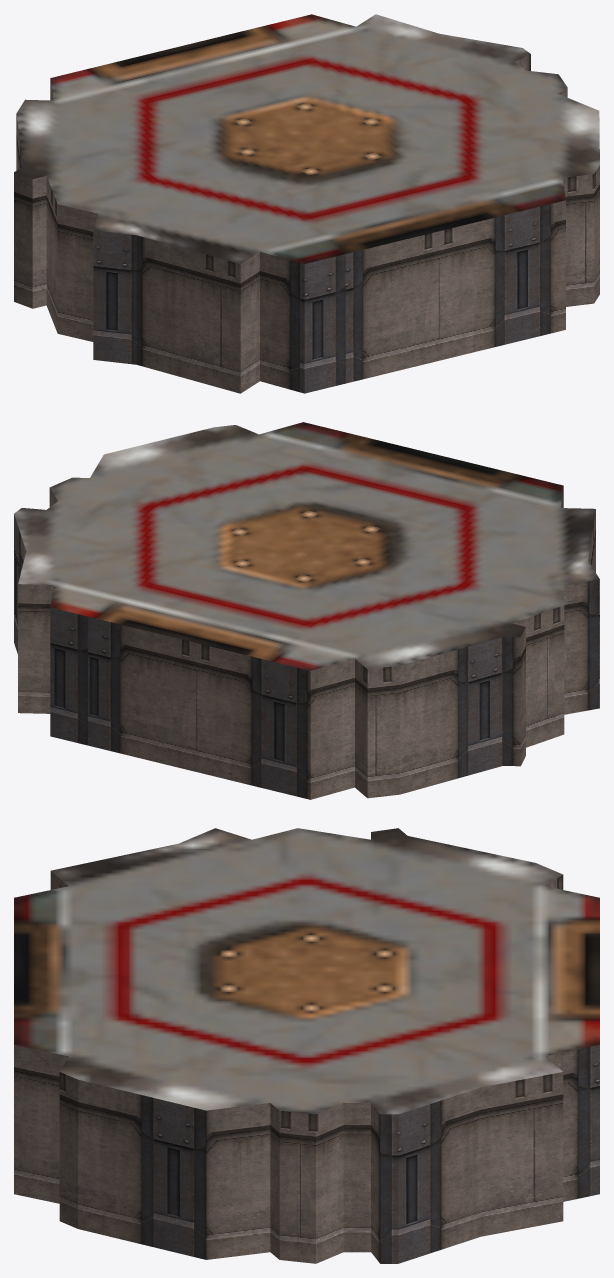
File: bsealed_light_a_54.glb
3 renders of one model, top to bottom at view 1: azimuth 30°, elevation 25°; view 2: azimuth 150°, elevation 25°; view 3: azimuth 270°, elevation 25°, orthographic. The views are drawn at different scales.
Parts seen in each view (by area): view 1: buildings/saxarba/bsealed_light/bsealed_light_a_54; view 2: buildings/saxarba/bsealed_light/bsealed_light_a_54; view 3: buildings/saxarba/bsealed_light/bsealed_light_a_54.
Part boxes in pixels (x1,y1,x2,y2): buildings/saxarba/bsealed_light/bsealed_light_a_54: (14,14,599,393); buildings/saxarba/bsealed_light/bsealed_light_a_54: (14,422,599,799); buildings/saxarba/bsealed_light/bsealed_light_a_54: (14,828,599,1263).
Bounding box in the file's own units: 74 × 18 × 64.
